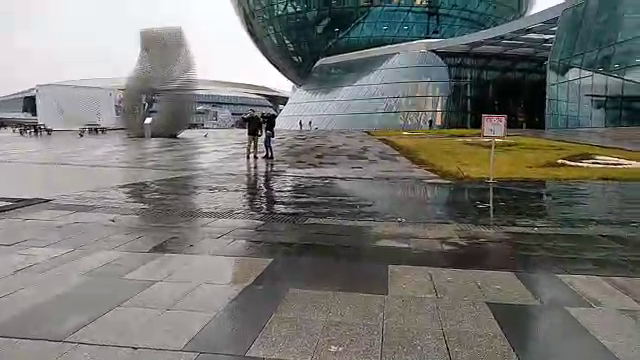kassa: (197, 103, 238, 134)
